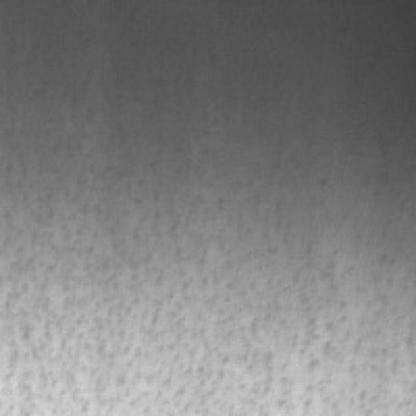pitted_surface: (9, 114, 404, 402)
